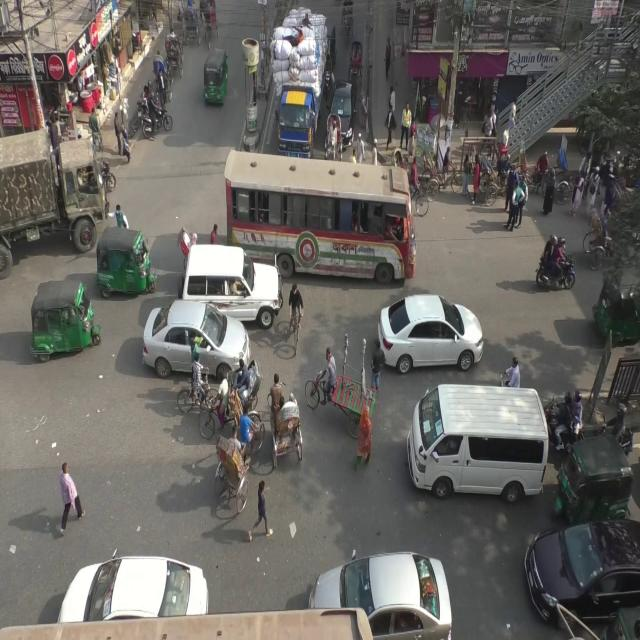cng: (555, 416, 638, 540), (26, 270, 106, 372), (86, 215, 163, 306), (587, 263, 640, 341), (196, 39, 233, 113)
rikshaw: (197, 350, 260, 447), (262, 378, 310, 488), (217, 391, 262, 504), (375, 145, 428, 222), (554, 135, 596, 210), (419, 139, 463, 204), (585, 202, 631, 262), (318, 107, 346, 192), (504, 150, 552, 198), (346, 36, 369, 103), (158, 25, 186, 75), (197, 0, 219, 54), (150, 40, 170, 98), (529, 288, 530, 305)
